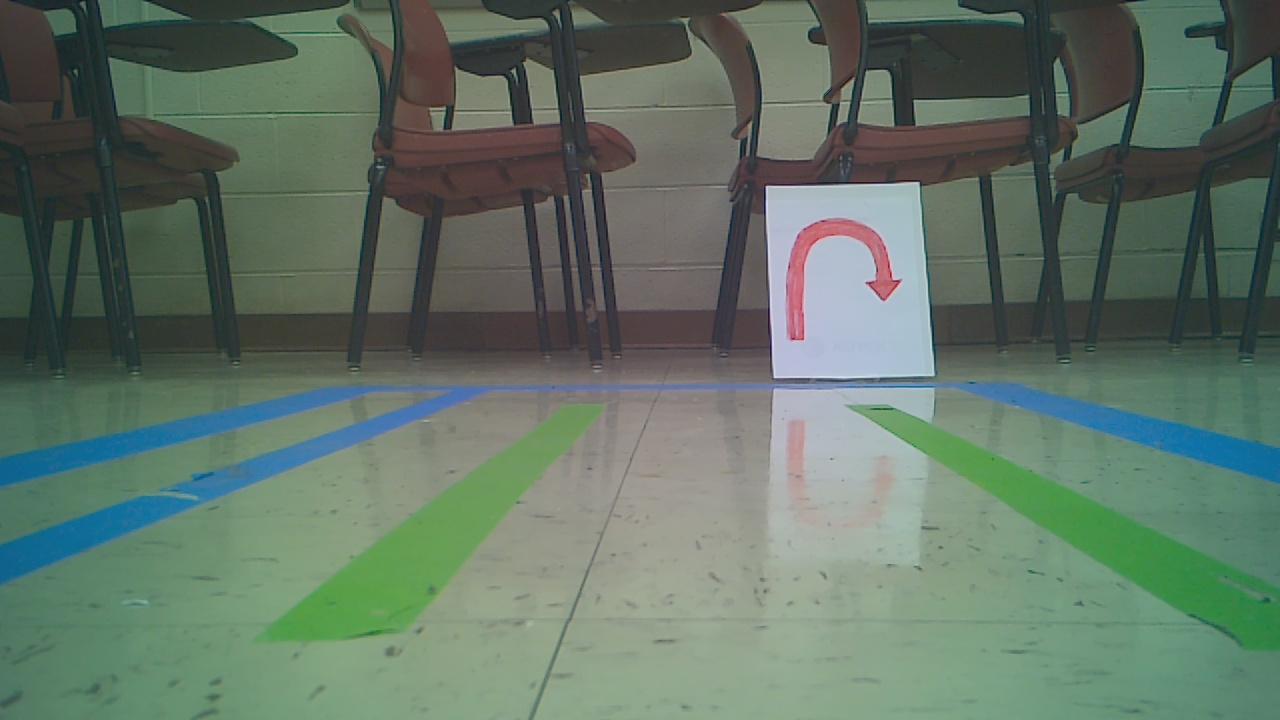greenline: (852, 406, 1274, 636), (267, 405, 610, 642)
uturn: (783, 212, 904, 345)
